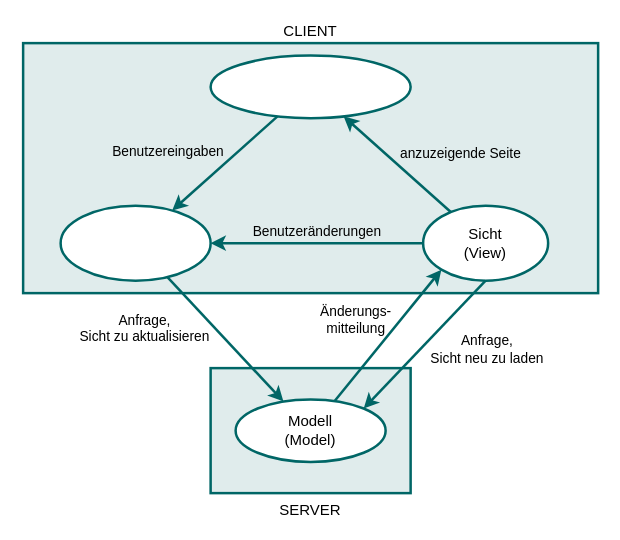
This 620x540 diagram has some shape labels left out. Here are the shapes that lost their labels. From the top down, the centre of each, then its label:
At [310,86]: "Browser".
At [135,242]: "Steuerung (Controller)".
